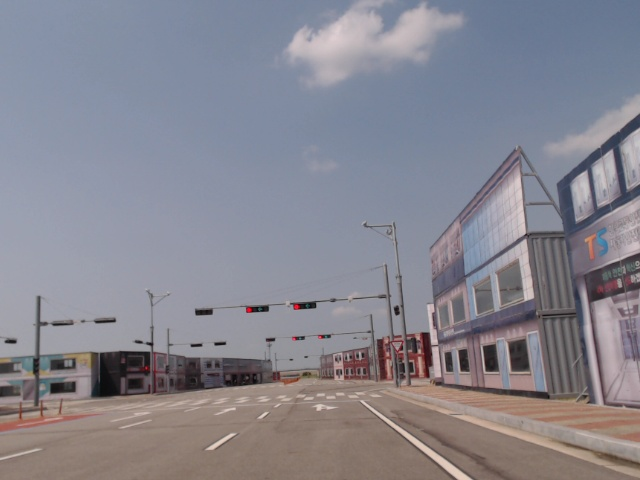left_green_4: (293, 303, 315, 310), (246, 306, 270, 312)
